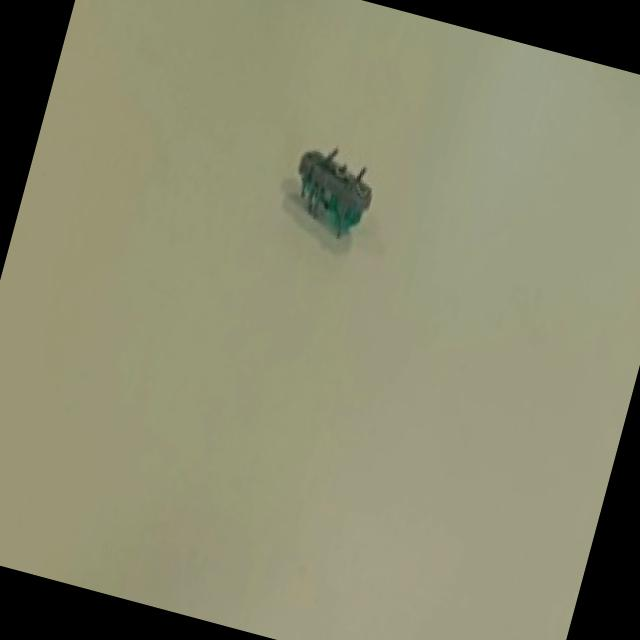5_NanoBug_GrisClaro: (244, 118, 414, 275)
